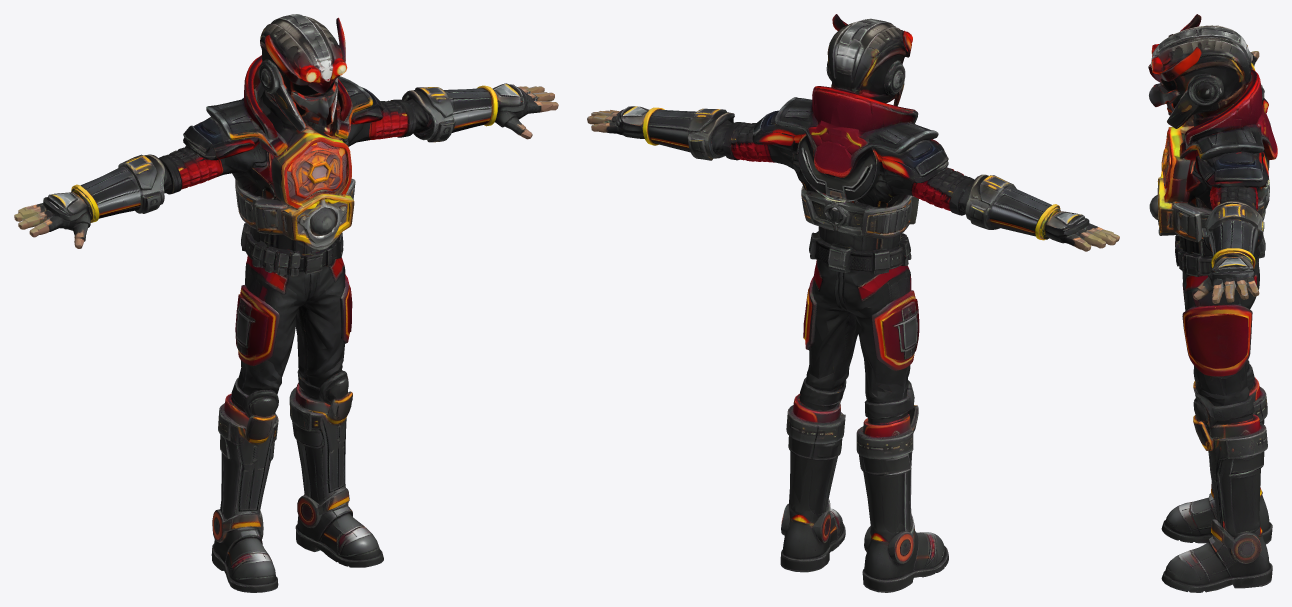
The model's file is pikadon-council-mesh.glb.
3 views of the same model, side by side, from view 1: azimuth 30°, elevation 25°; view 2: azimuth 150°, elevation 25°; view 3: azimuth 270°, elevation 25° (orthographic). The views are drawn at different scales.
Parts seen in each view (by area): view 1: Mesh_0; view 2: Mesh_0; view 3: Mesh_0.
Boxes of the visible parts, x1=… form: Mesh_0: x1=14, y1=14, x2=558, y2=592; Mesh_0: x1=587, y1=14, x2=1119, y2=592; Mesh_0: x1=1148, y1=14, x2=1277, y2=592.
Bounding box in the file's own units: 1.9 × 1.85 × 0.4089.
Materials: 1 (1 with a texture image).
